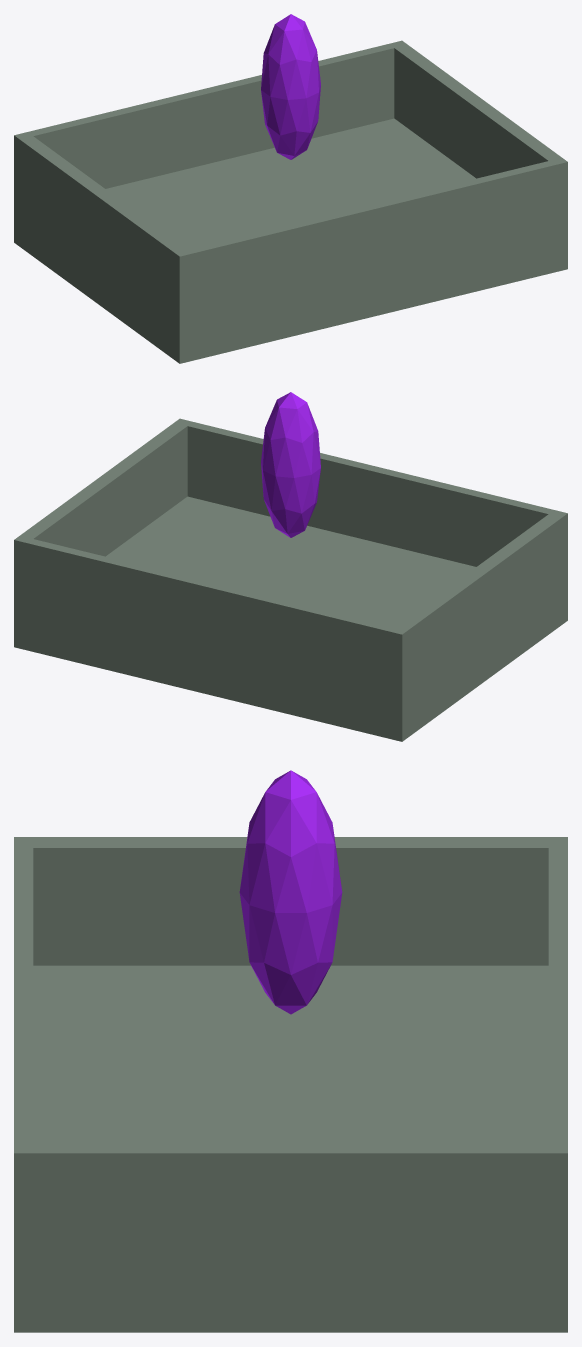
Rendered from AssembleArtifact.fbx.
The picture shows the model from 3 angles, top to bottom: view 1: azimuth 30°, elevation 25°; view 2: azimuth 150°, elevation 25°; view 3: azimuth 270°, elevation 25°; orthographic projection. The views are drawn at different scales.
Parts seen in each view (by area): view 1: AssembleArtifact; view 2: AssembleArtifact; view 3: AssembleArtifact.
Part boxes in pixels (box(x1,y1,x2,y2)): AssembleArtifact: box(14, 14, 567, 363); AssembleArtifact: box(14, 392, 567, 741); AssembleArtifact: box(14, 770, 567, 1332).
Bounding box in the file's own units: 82.1 × 48.89 × 60.74.
